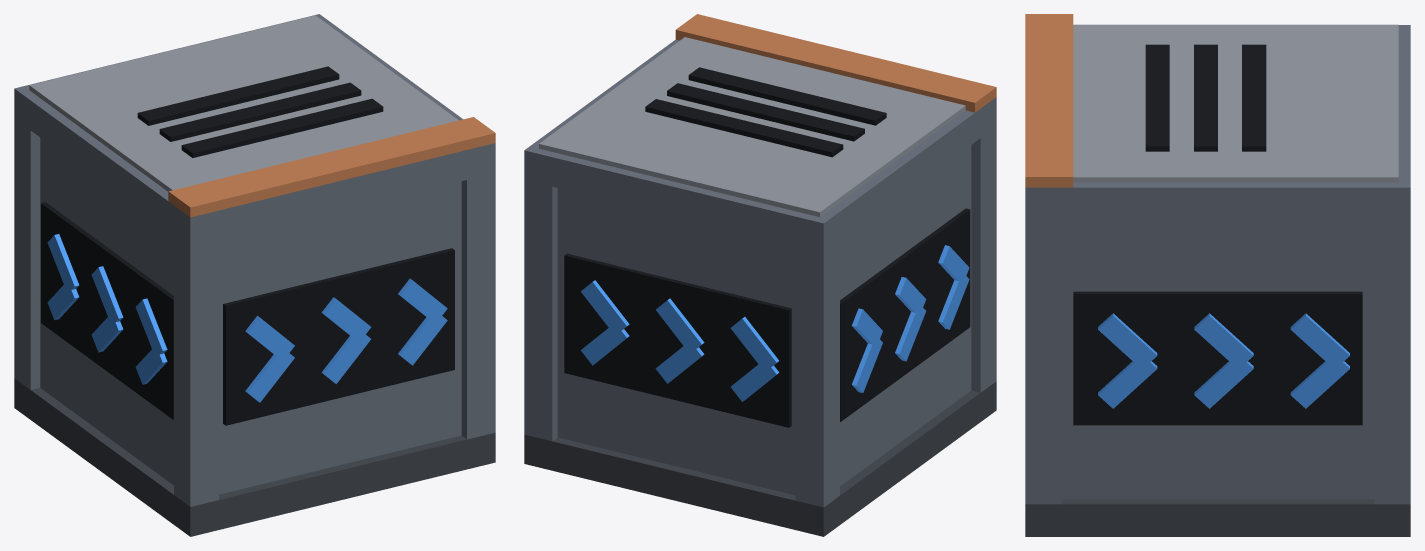
Rendered from dock_load.glb.
3 renders of one model, left to right at view 1: azimuth 30°, elevation 25°; view 2: azimuth 150°, elevation 25°; view 3: azimuth 270°, elevation 25°, orthographic. The views are drawn at different scales.
Visible parts, largest first — view 1: body.035, tier.018, lit0.002, lit2.002, lit1.002; view 2: body.035, tier.018, lit0.002, lit1.002, lit2.002; view 3: body.035, tier.018, lit0.002, lit1.002, lit2.002.
Boxes of the visible parts, x1,y1,x2,y2 form: body.035: (14, 14, 495, 536); tier.018: (168, 117, 495, 217); lit0.002: (47, 234, 294, 402); lit2.002: (135, 278, 447, 384); lit1.002: (91, 266, 371, 383); body.035: (524, 37, 996, 536); tier.018: (675, 14, 996, 112); lit0.002: (581, 280, 882, 392); lit1.002: (655, 277, 926, 383); lit2.002: (730, 245, 969, 401); body.035: (1025, 24, 1410, 536); tier.018: (1025, 14, 1073, 187); lit0.002: (1098, 313, 1157, 408); lit1.002: (1194, 313, 1253, 408); lit2.002: (1290, 313, 1349, 408).
Size of the model in its own units: 1 by 1.03 by 1.
